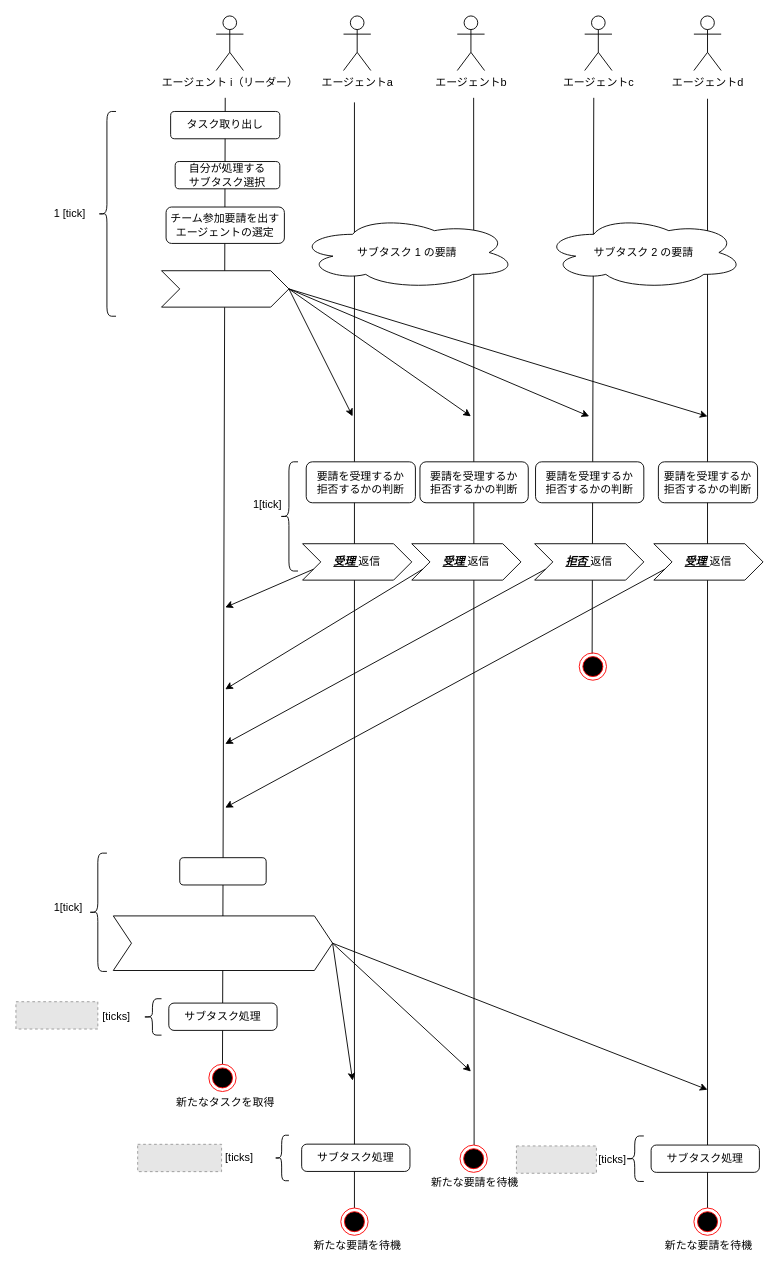
Some shapes in this 779 by 1271 pixel diagram are drawn without their labels. Grey dashed boxes stand in for pictures. The shapes that lost their labels are listed below. From the top down, each one's box as (x1, y1, x2, y2) in pixels, then its label:
(161, 270, 289, 307): 参加要請の送信
(179, 857, 266, 885): チーム編成
(112, 915, 333, 971): チーム成立通知(サブタスク割り当て) & エージェントBへの不採用通知
